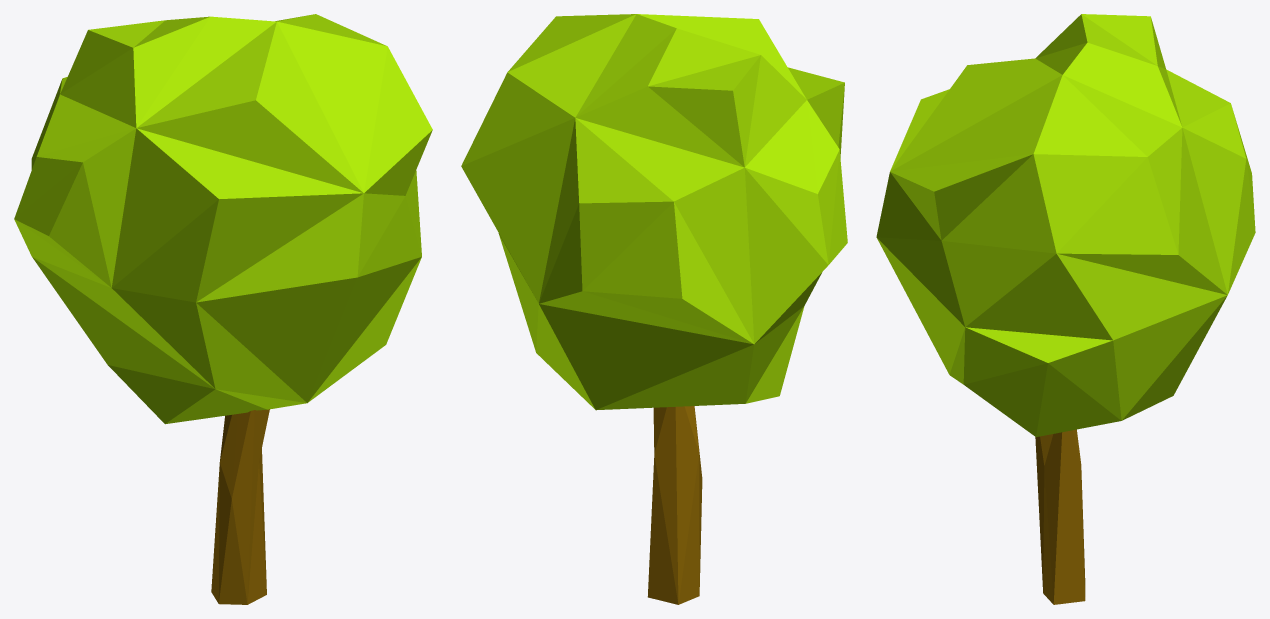
The picture shows the model from 3 angles, left to right: view 1: azimuth 30°, elevation 25°; view 2: azimuth 150°, elevation 25°; view 3: azimuth 270°, elevation 25°; orthographic projection. The views are drawn at different scales.
Parts seen in each view (by area): view 1: crown1, trunk1; view 2: crown1, trunk1; view 3: crown1, trunk1.
Part boxes in pixels (<box>): crown1: <box>14,14,432,424</box>; trunk1: <box>211,409,269,604</box>; crown1: <box>461,14,847,410</box>; trunk1: <box>647,406,702,604</box>; crown1: <box>876,14,1255,437</box>; trunk1: <box>1035,429,1085,604</box>.
Bounding box in the file's own units: 137 × 209 × 132.
